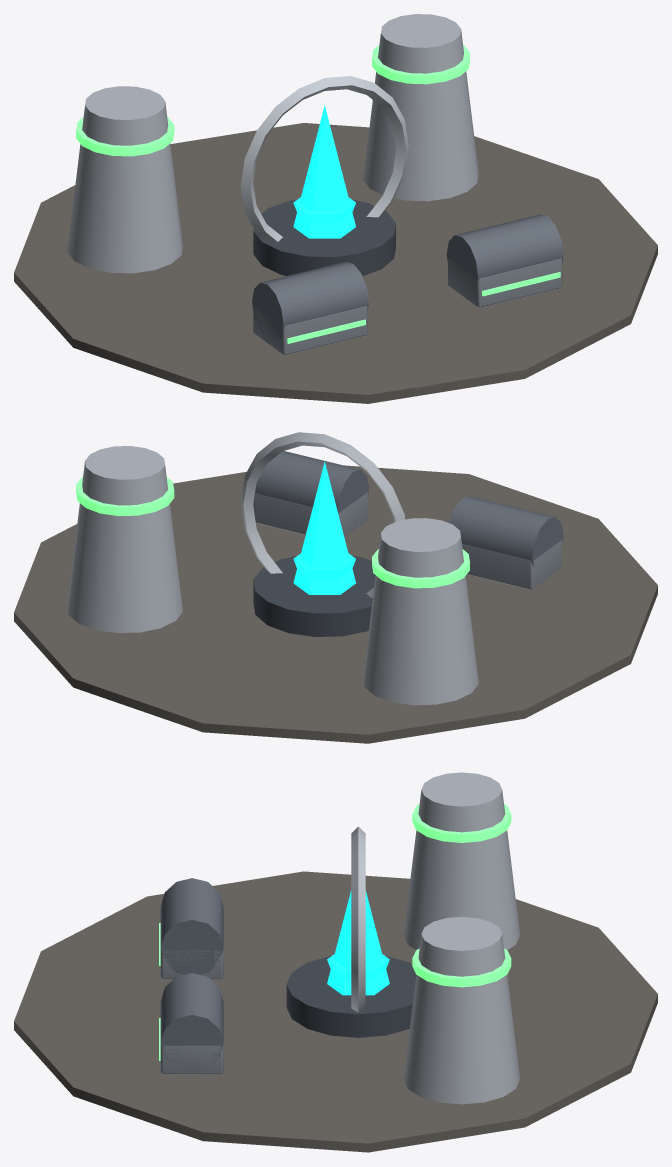
Rendered from district_scifi_c_green.glb.
3 renders of one model, top to bottom at view 1: azimuth 30°, elevation 25°; view 2: azimuth 150°, elevation 25°; view 3: azimuth 270°, elevation 25°, orthographic.
Parts seen in each view (by area): view 1: district_scifi_c_green; view 2: district_scifi_c_green; view 3: district_scifi_c_green.
Part boxes in pixels (x1=…): district_scifi_c_green: x1=14, y1=14, x2=657, y2=403; district_scifi_c_green: x1=14, y1=432, x2=657, y2=743; district_scifi_c_green: x1=14, y1=772, x2=657, y2=1152.
Bounding box in the file's own units: 1.43 × 0.506 × 1.43.
3 materials, 1 textured.
